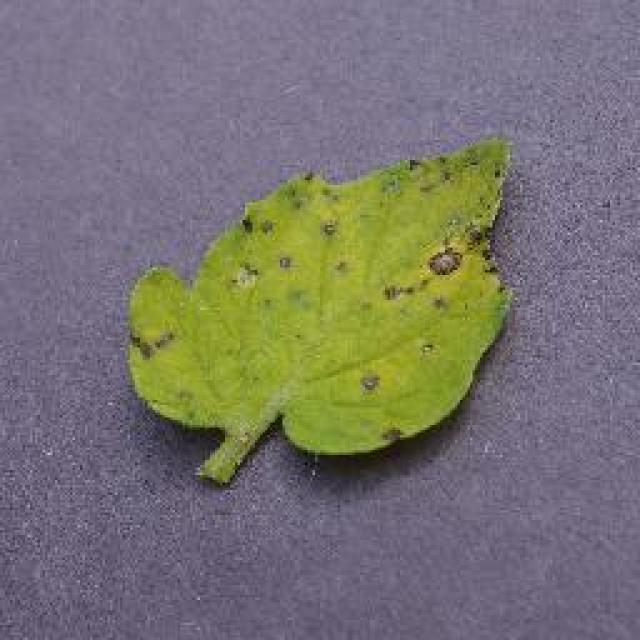Tom_Septoria_leaf_spot: (366, 146, 510, 319), (235, 178, 350, 292)
